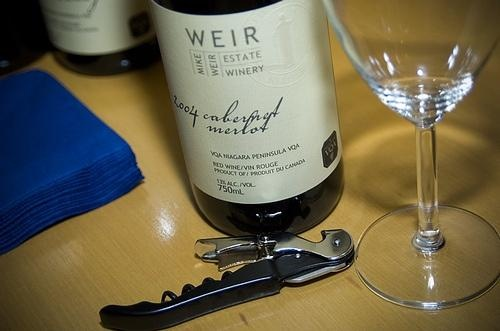bottle: (146, 1, 355, 248), (38, 2, 169, 79)
